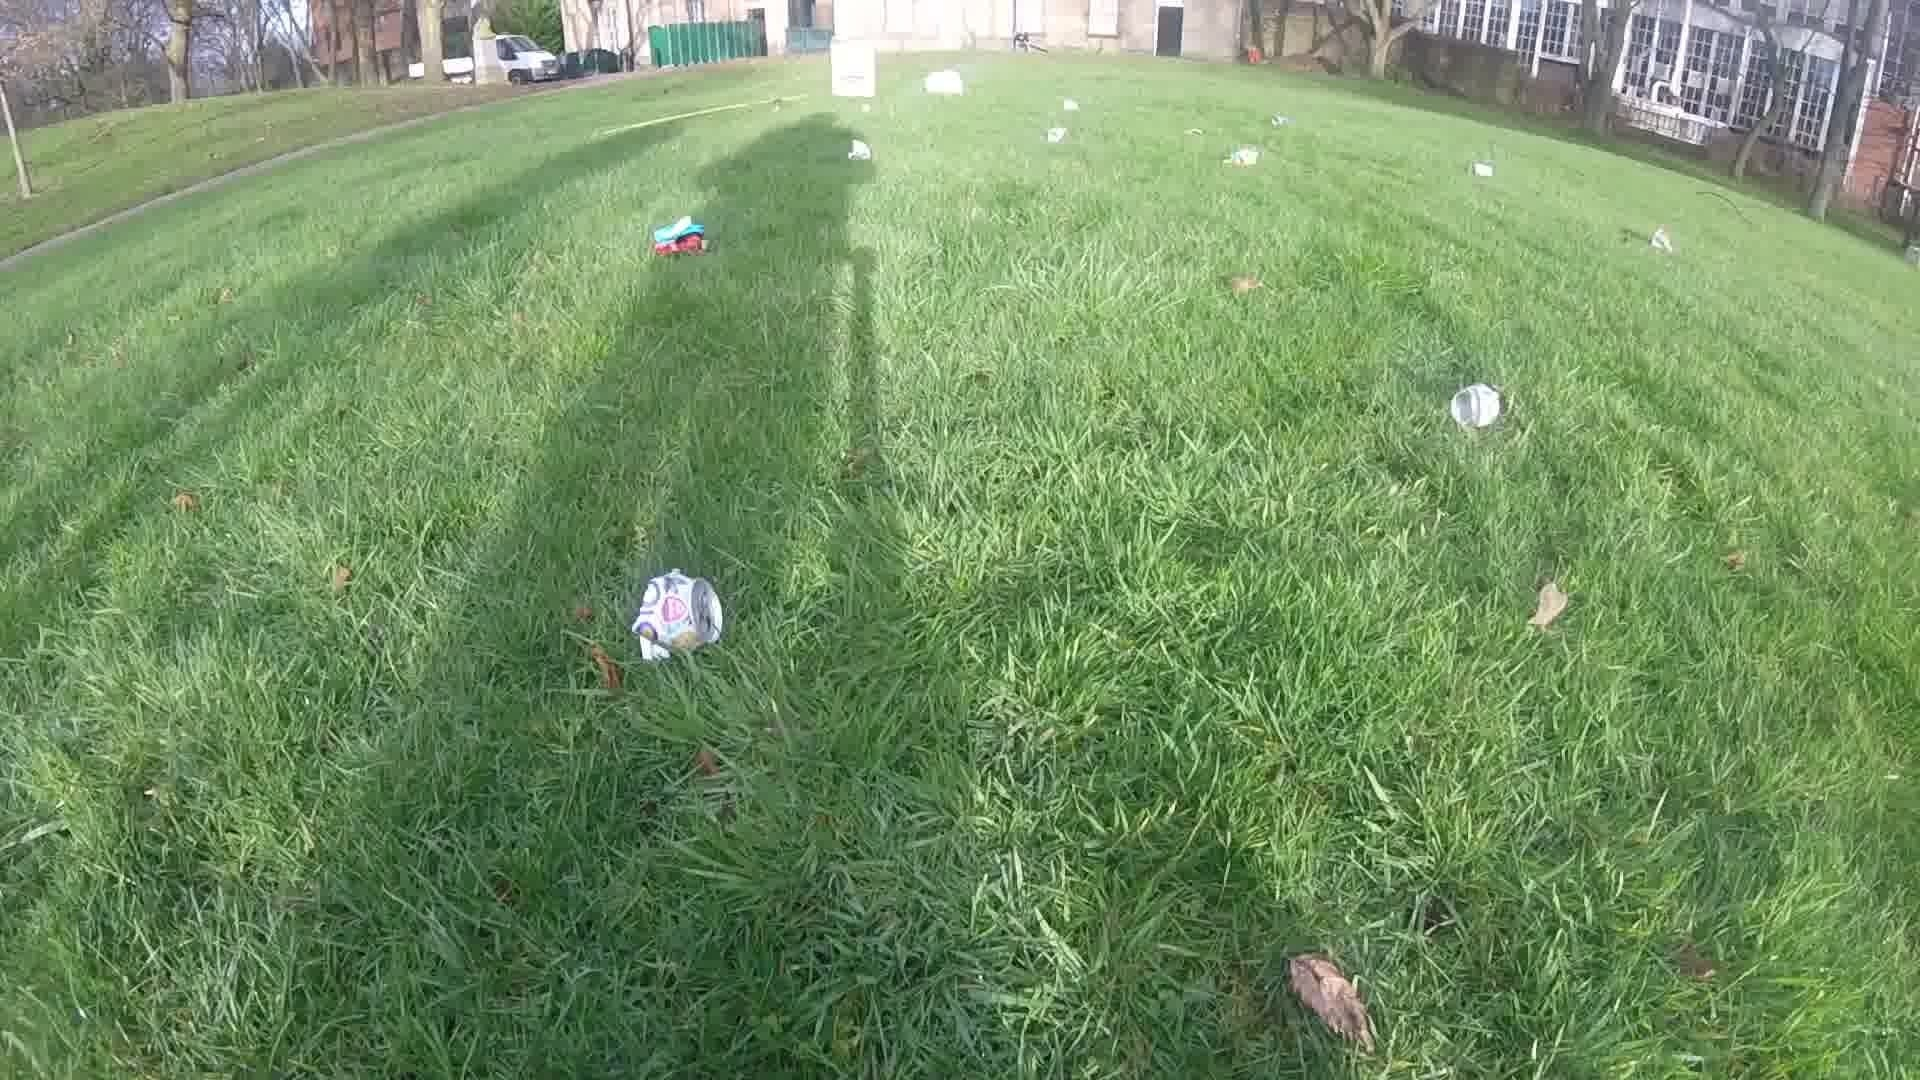litter: (636, 575, 723, 651), (829, 36, 878, 100), (1453, 384, 1501, 429), (654, 222, 705, 257), (919, 67, 969, 96), (1222, 144, 1261, 167), (1648, 231, 1677, 255), (849, 140, 872, 162), (1042, 127, 1067, 142), (1470, 164, 1491, 179), (1060, 100, 1083, 112), (1269, 113, 1290, 125), (1183, 128, 1205, 135)
